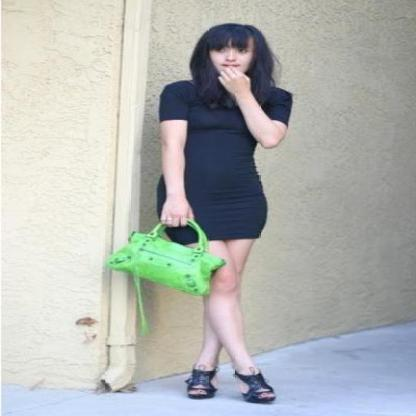bag: (104, 225, 225, 303)
dress: (156, 77, 291, 245)
shoe: (187, 366, 275, 404)
